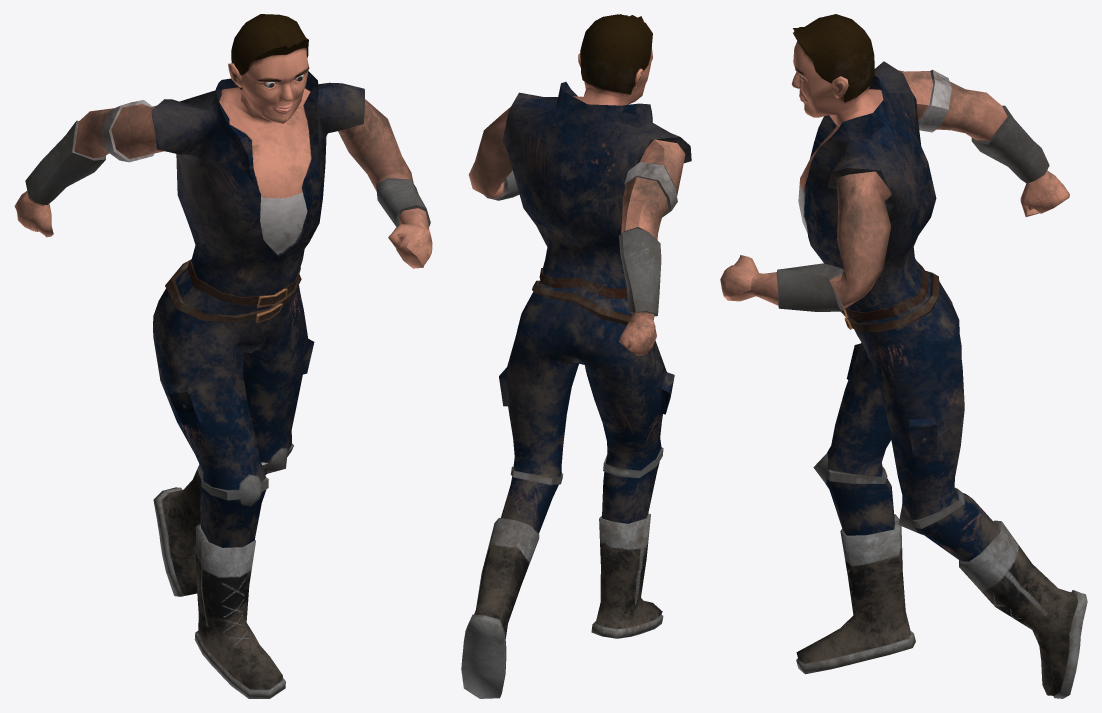
The model's file is Anim_correr_jugador.0031.obj.
The picture shows the model from 3 angles, left to right: view 1: azimuth 30°, elevation 25°; view 2: azimuth 150°, elevation 25°; view 3: azimuth 270°, elevation 25°; orthographic projection. The views are drawn at different scales.
Visible parts, largest first — view 1: Anim_correr_jugador; view 2: Anim_correr_jugador; view 3: Anim_correr_jugador.
Boxes of the visible parts, bbox=[...] form: Anim_correr_jugador: bbox=[14, 14, 432, 698]; Anim_correr_jugador: bbox=[461, 14, 691, 698]; Anim_correr_jugador: bbox=[720, 14, 1087, 698].
Bounding box in the file's own units: 4.48 × 9.65 × 4.84.
2 materials, 2 textured.
